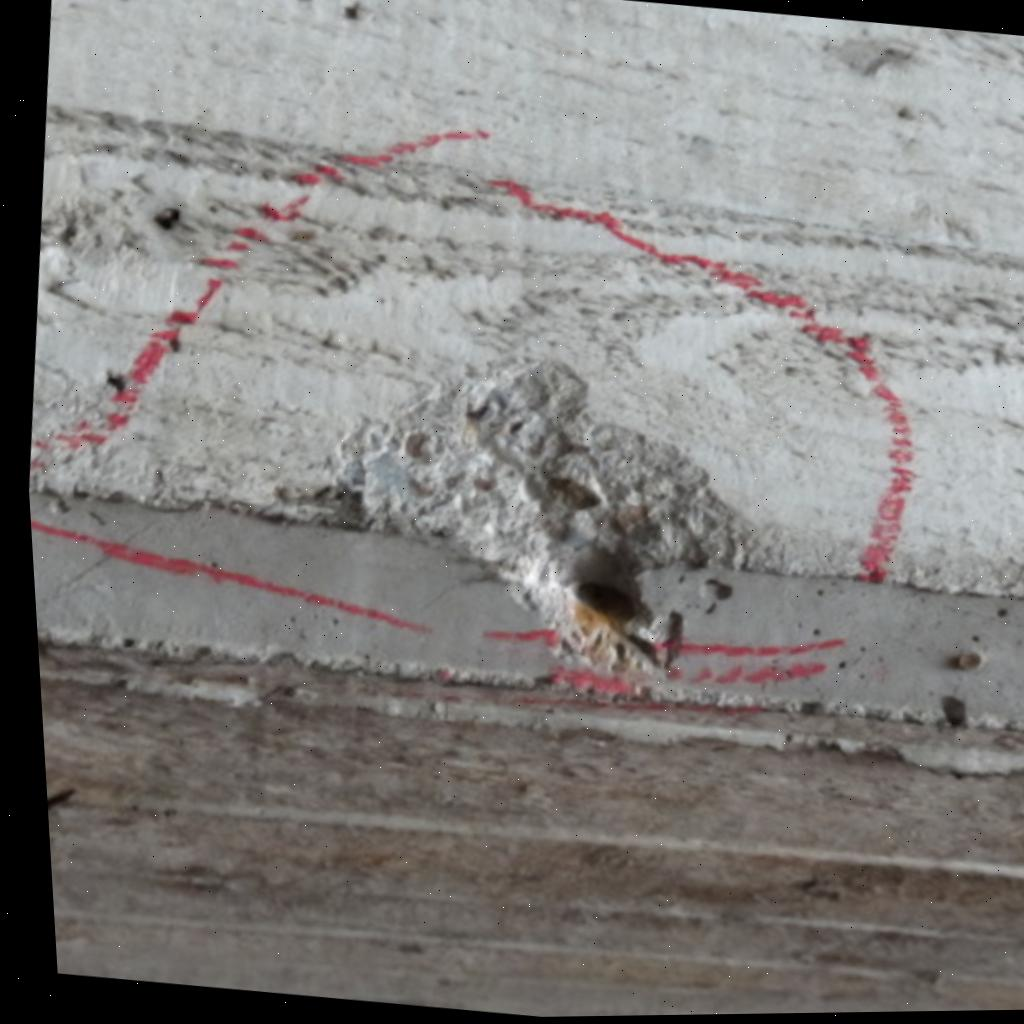exposed_rebar: (575, 580, 636, 623)
spalling: (338, 359, 748, 675)
